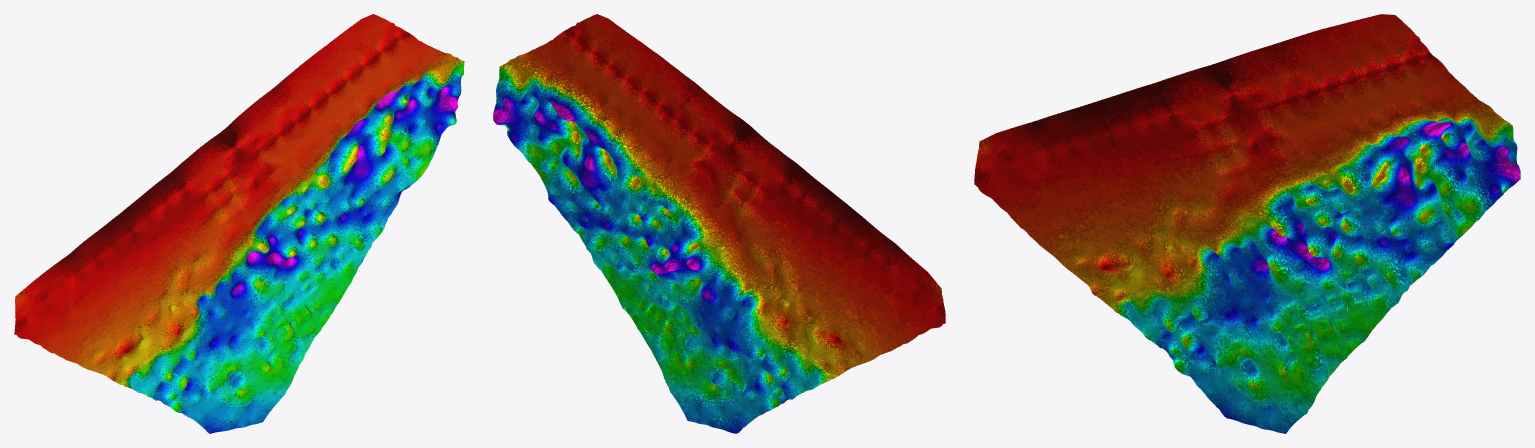
The model's file is Topo_Maastrichtiano.glb.
The picture shows the model from 3 angles, left to right: view 1: azimuth 30°, elevation 25°; view 2: azimuth 150°, elevation 25°; view 3: azimuth 330°, elevation 25°; orthographic projection. The views are drawn at different scales.
Parts seen in each view (by area): view 1: Surface; view 2: Surface; view 3: Surface.
Part boxes in pixels (x1,y1,x2,y2): Surface: (14, 14, 464, 433); Surface: (493, 14, 945, 433); Surface: (974, 14, 1520, 433).
Bounding box in the file's own units: 372253 × 304002 × 23570.
1 material, 1 textured.
